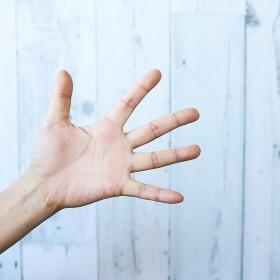pa-: (44, 67, 202, 208)
